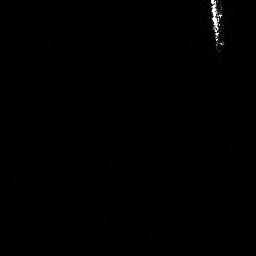ship: (207, 1, 225, 47)
